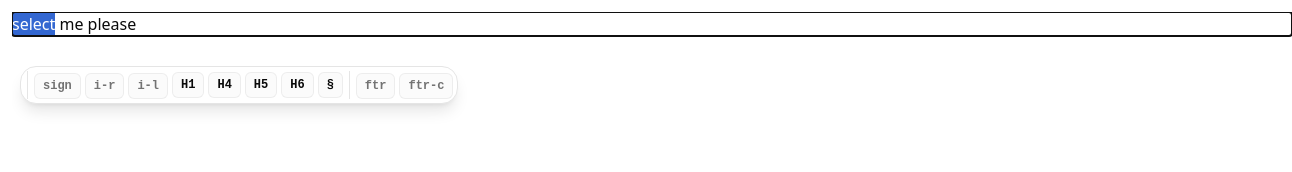
it: EditorSelectionToolbar — вставка § та wrapper-маркери › клік по § вставляє oneBrSymbol, замінюючи виділення
What coordinates should you click on to do the following:
click the button "§"
I would click on:
 (330, 85)
Its box is [318,72,343,98].
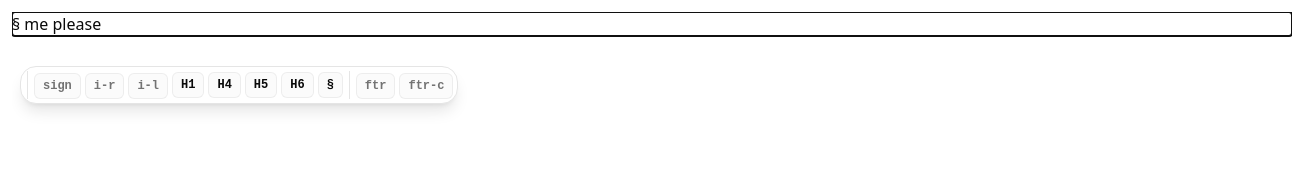
Expected: the text box with test id "editor" reads "§ me please", [12,13,101,35]
